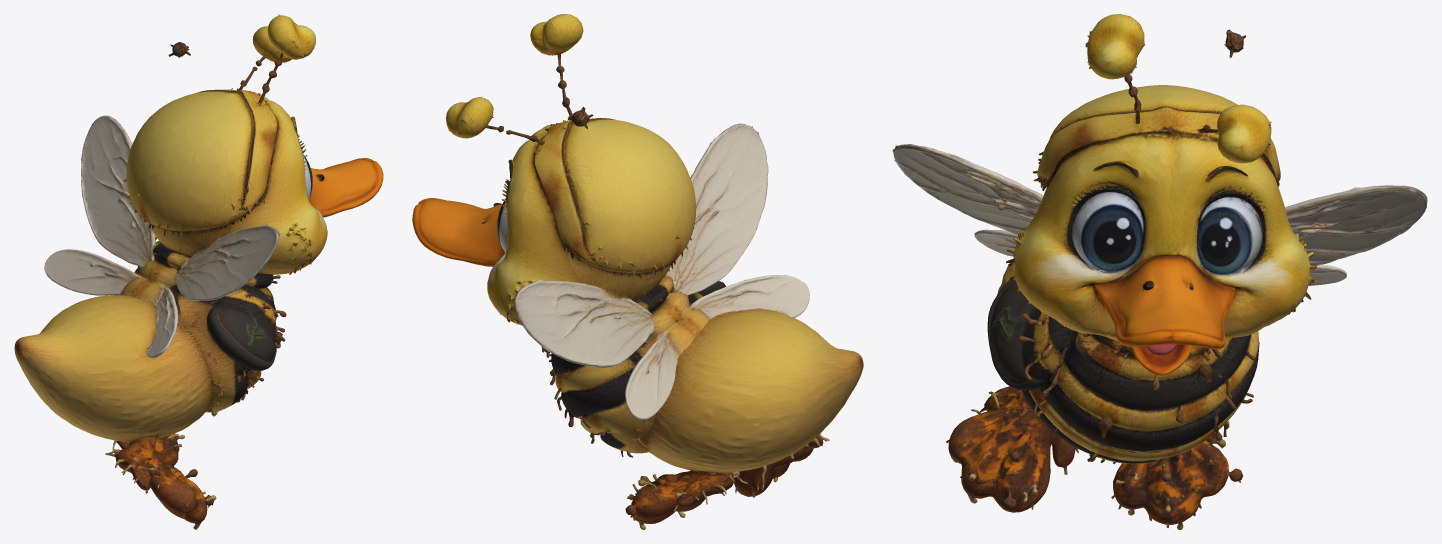
File: BEEDUCK.glb
3 renders of one model, left to right at view 1: azimuth 30°, elevation 25°; view 2: azimuth 150°, elevation 25°; view 3: azimuth 270°, elevation 25°, orthographic. The views are drawn at different scales.
Parts seen in each view (by area): view 1: tripo_node_25d3f3c0-a904-4c14-8b63-e372196f1b7f; view 2: tripo_node_25d3f3c0-a904-4c14-8b63-e372196f1b7f; view 3: tripo_node_25d3f3c0-a904-4c14-8b63-e372196f1b7f.
Boxes of the visible parts, x1=… form: tripo_node_25d3f3c0-a904-4c14-8b63-e372196f1b7f: x1=14, y1=14, x2=383, y2=529; tripo_node_25d3f3c0-a904-4c14-8b63-e372196f1b7f: x1=412, y1=14, x2=863, y2=529; tripo_node_25d3f3c0-a904-4c14-8b63-e372196f1b7f: x1=892, y1=14, x2=1427, y2=529.
Bounding box in the file's own units: 0.9189 × 1 × 0.8343.
1 material, 1 textured.
